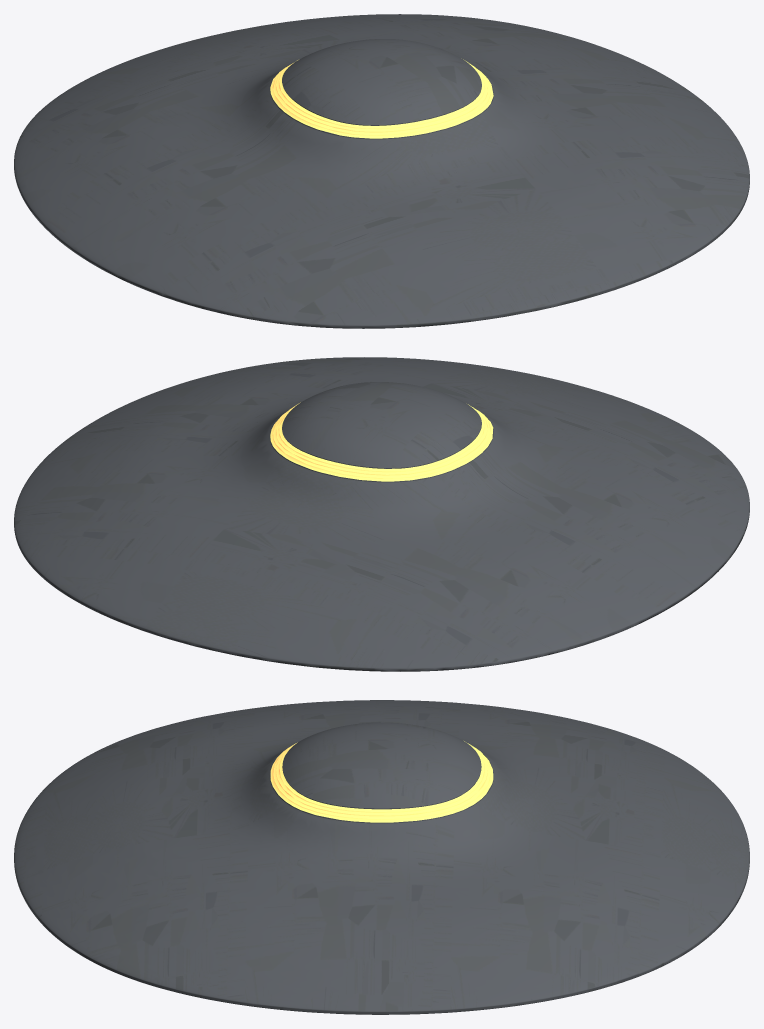
The model's file is ufo-CjTMgMNe.glb.
The picture shows the model from 3 angles, top to bottom: view 1: azimuth 30°, elevation 25°; view 2: azimuth 150°, elevation 25°; view 3: azimuth 270°, elevation 25°; orthographic projection. The views are drawn at different scales.
Visible parts, largest first — view 1: UFO_UFO Metal_0, UFO_Ventanilla_0; view 2: UFO_UFO Metal_0, UFO_Ventanilla_0; view 3: UFO_UFO Metal_0, UFO_Ventanilla_0.
Part boxes in pixels (x1=…): UFO_UFO Metal_0: x1=14, y1=14, x2=749, y2=328; UFO_Ventanilla_0: x1=270, y1=59, x2=493, y2=138; UFO_UFO Metal_0: x1=14, y1=357, x2=749, y2=671; UFO_Ventanilla_0: x1=270, y1=402, x2=493, y2=481; UFO_UFO Metal_0: x1=14, y1=700, x2=749, y2=1014; UFO_Ventanilla_0: x1=270, y1=741, x2=493, y2=822.
Size of the model in its own units: 9.37 by 2.49 by 9.37.
3 materials, 2 textured.
